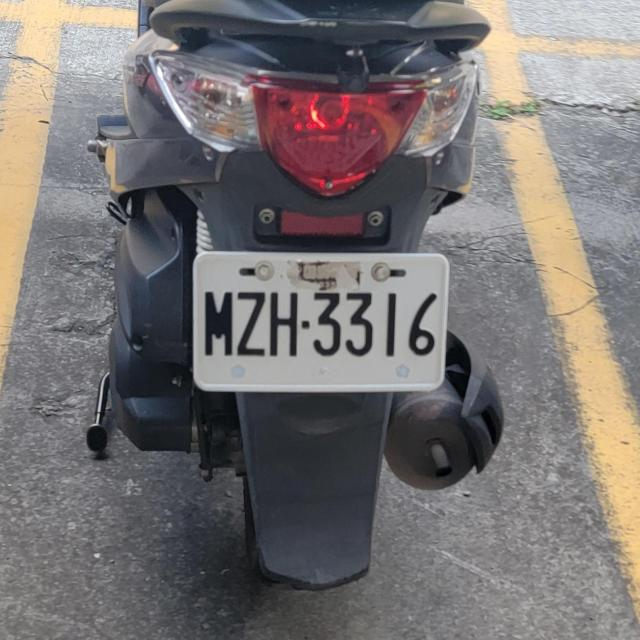W: (187, 243, 449, 397)
